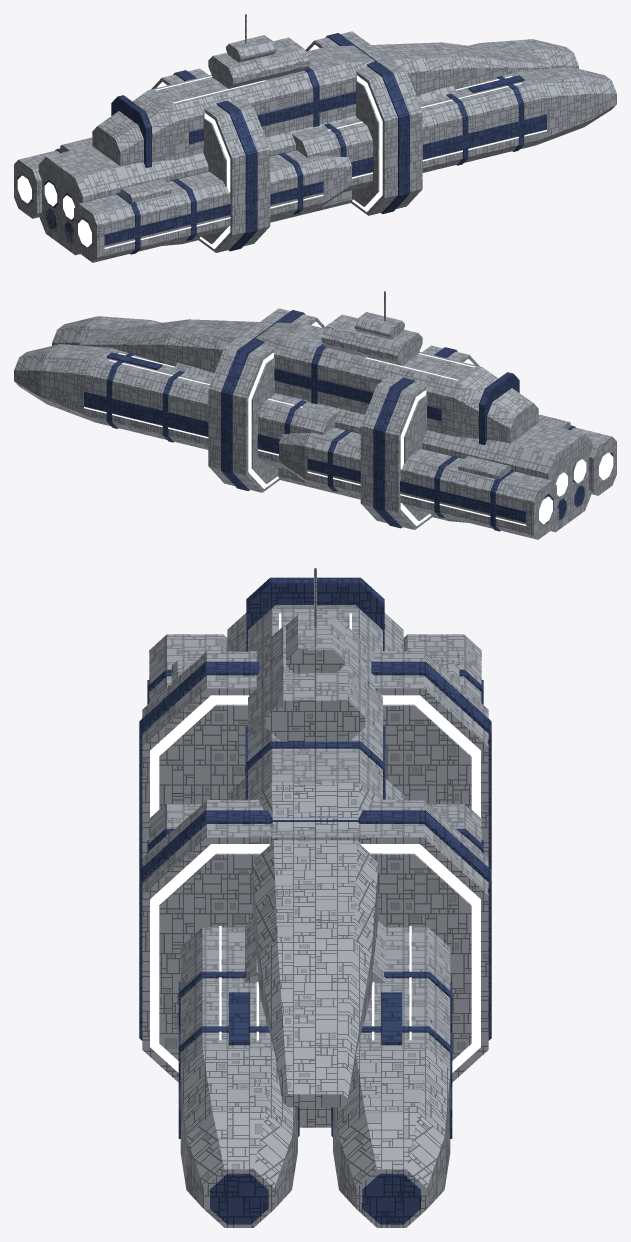
The model's file is lumen_lod1.glb.
3 views of the same model, one above another, from view 1: azimuth 30°, elevation 25°; view 2: azimuth 150°, elevation 25°; view 3: azimuth 270°, elevation 25° (orthographic). The views are drawn at different scales.
Visible parts, largest first — view 1: lumen_lod1_body, lumen_lod1_glow; view 2: lumen_lod1_body, lumen_lod1_glow; view 3: lumen_lod1_body, lumen_lod1_glow.
Boxes of the visible parts, left/top/right/bottom form: lumen_lod1_body: left=14, top=14, right=616, bottom=262; lumen_lod1_glow: left=17, top=45, right=546, bottom=248; lumen_lod1_body: left=14, top=291, right=616, bottom=539; lumen_lod1_glow: left=84, top=322, right=613, bottom=525; lumen_lod1_body: left=139, top=568, right=491, bottom=1227; lumen_lod1_glow: left=150, top=613, right=480, bottom=1142.
Bounding box in the file's own units: 21.08 × 7.75 × 6.
2 materials, 1 textured.
